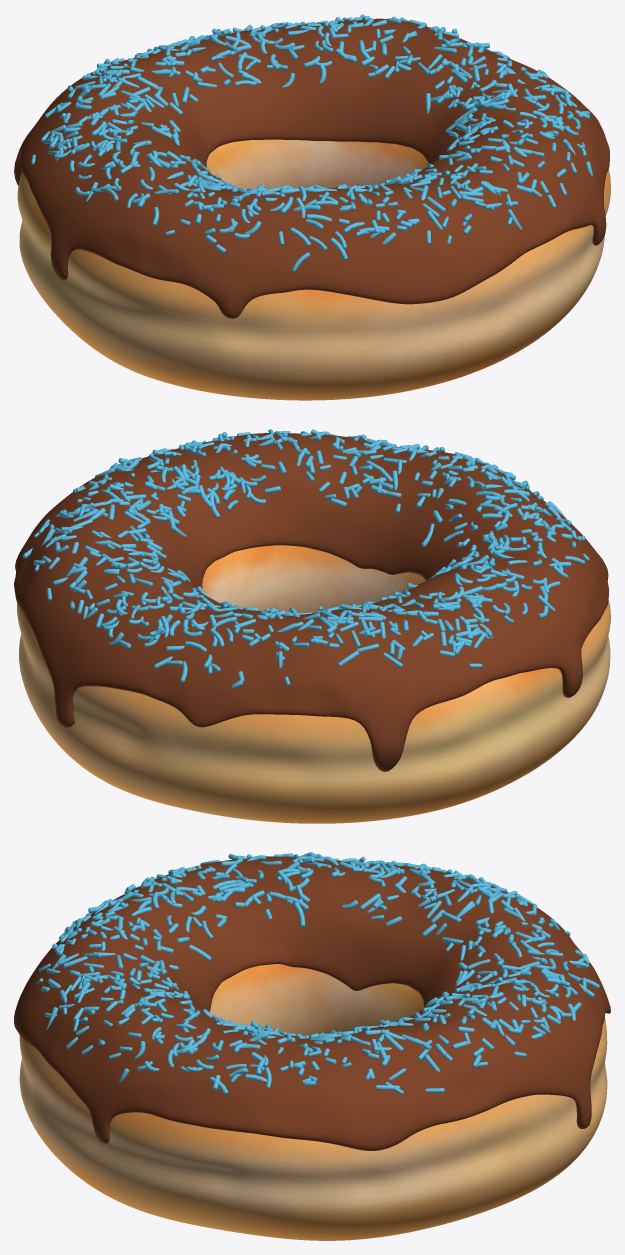
File: Donut.fbx
The picture shows the model from 3 angles, top to bottom: view 1: azimuth 30°, elevation 25°; view 2: azimuth 150°, elevation 25°; view 3: azimuth 270°, elevation 25°; orthographic projection.
Parts seen in each view (by area): view 1: Es; view 2: Es; view 3: Es.
Part boxes in pixels (bbox=[...]): Es: bbox=[14, 18, 610, 400]; Es: bbox=[14, 433, 610, 823]; Es: bbox=[14, 856, 610, 1240].
Size of the model in its own units: 0.1496 by 0.0563 by 0.1458.
